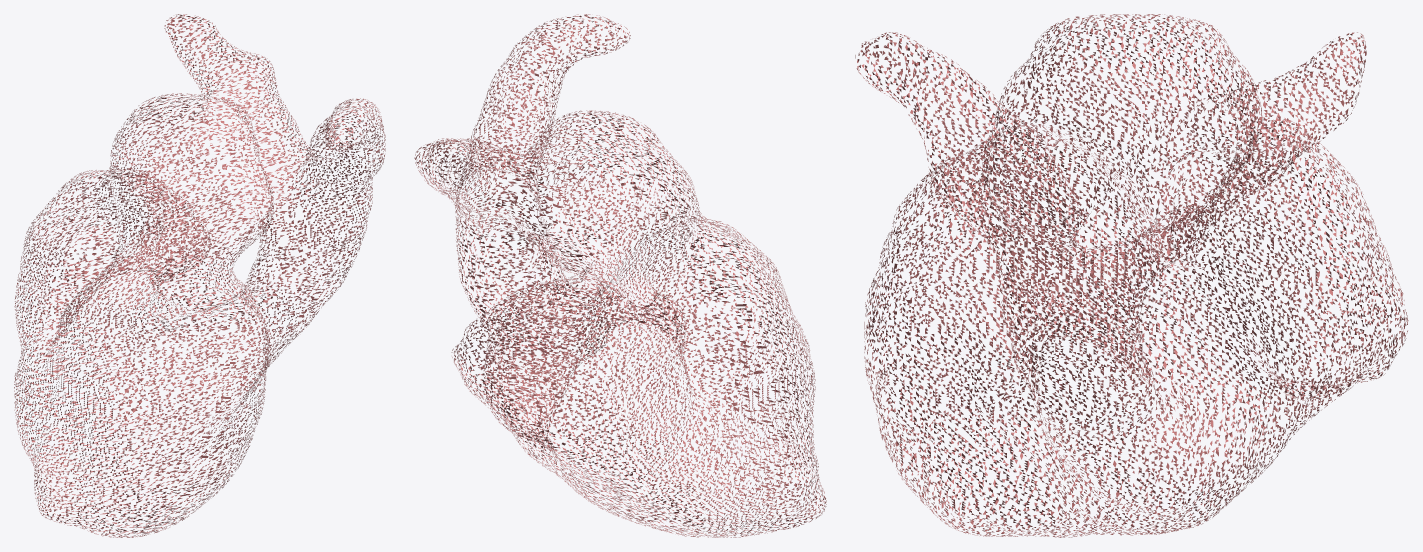
The model's file is heart.glb.
The picture shows the model from 3 angles, left to right: view 1: azimuth 30°, elevation 25°; view 2: azimuth 150°, elevation 25°; view 3: azimuth 270°, elevation 25°; orthographic projection. The views are drawn at different scales.
Size of the model in its own units: 121 by 138 by 112.
